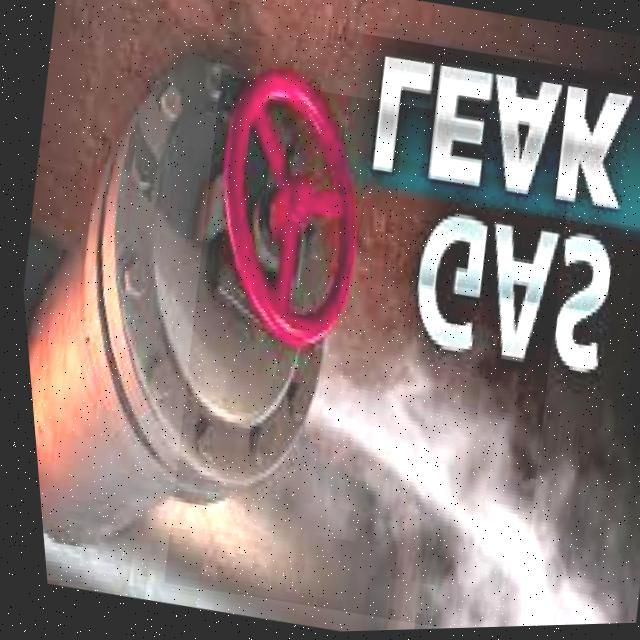corrosion: (170, 111, 640, 625)
